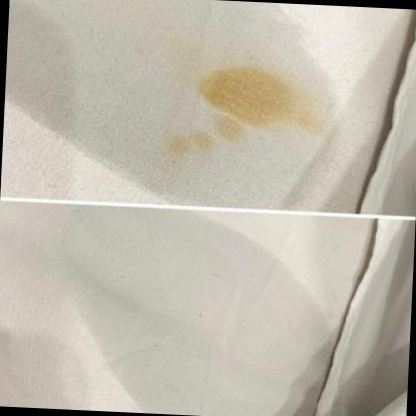coffee: (201, 71, 293, 117), (216, 120, 243, 140)
